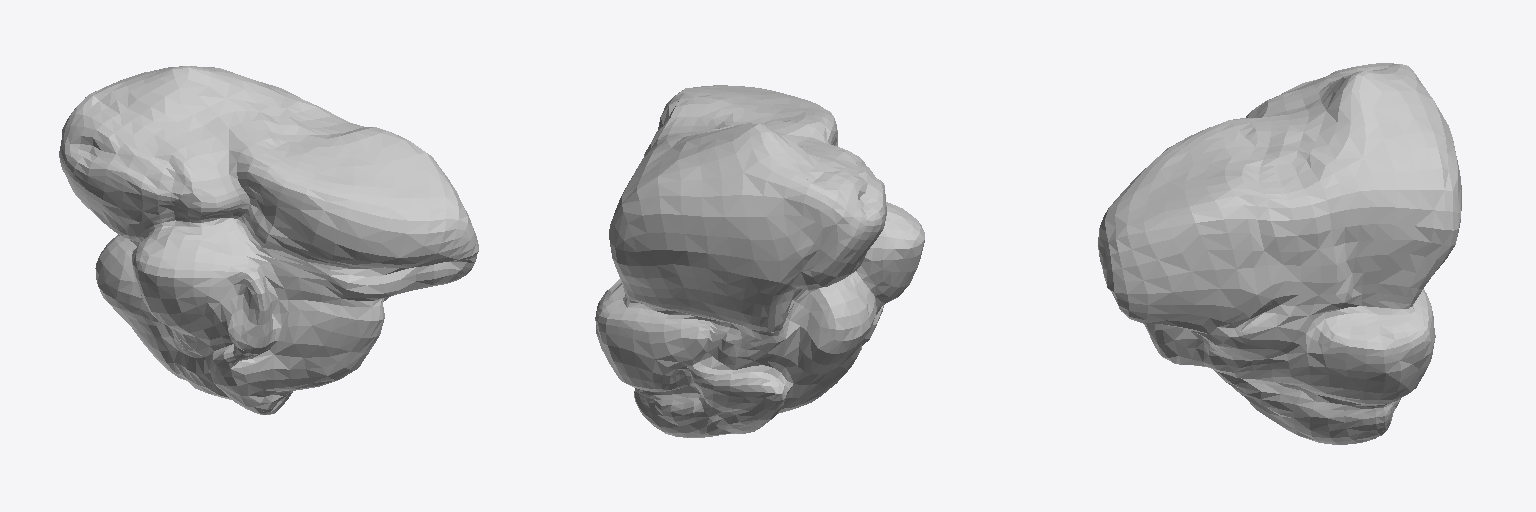
The model's file is mineral.obj.
3 renders of one model, left to right at view 1: azimuth 30°, elevation 25°; view 2: azimuth 150°, elevation 25°; view 3: azimuth 270°, elevation 25°, orthographic.
Visible parts, largest first — view 1: mesh; view 2: mesh; view 3: mesh.
Boxes of the visible parts, box(x1,y1,x2,y2) form: mesh: box(59, 66, 478, 414); mesh: box(595, 85, 924, 437); mesh: box(1098, 63, 1461, 444).
Bounding box in the file's own units: 0.9281 × 0.9989 × 0.9872.